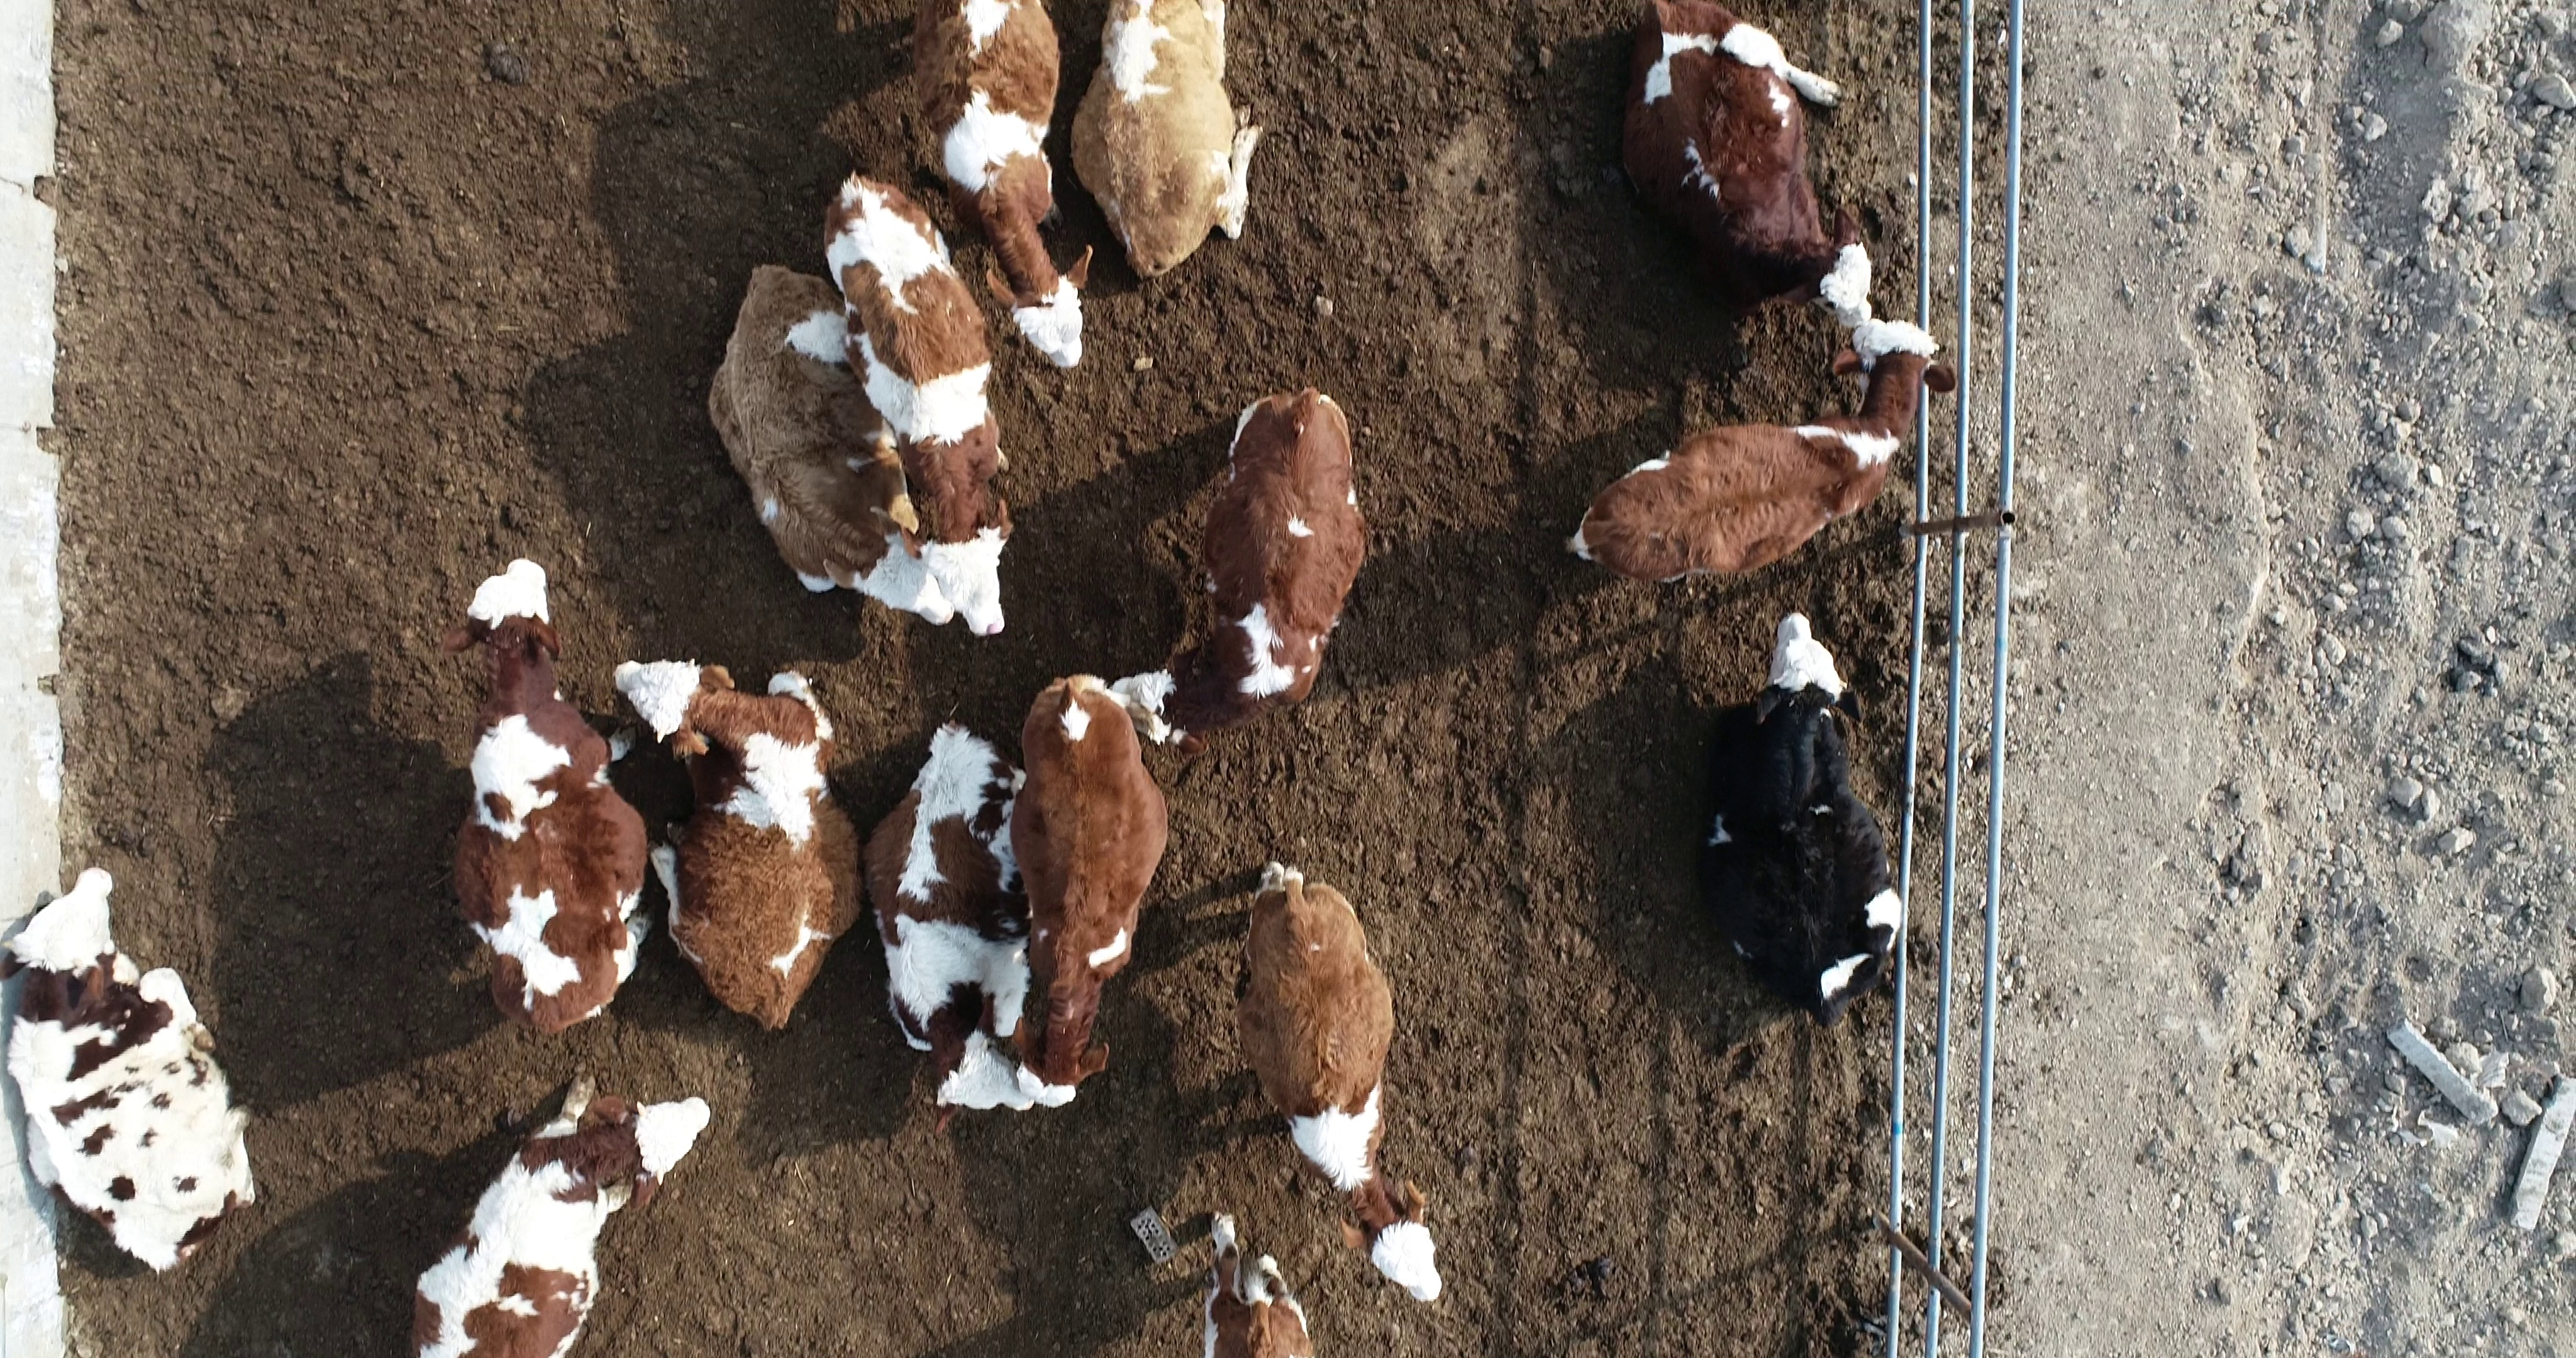cattle: (1561, 315, 1961, 588), (436, 554, 658, 1039), (1102, 380, 1377, 760), (607, 651, 867, 1036), (816, 165, 1022, 642), (1233, 859, 1452, 1309), (700, 254, 956, 627), (1692, 607, 1908, 1033), (1610, 2, 1879, 332), (852, 714, 1039, 1118), (1007, 670, 1172, 1113)
